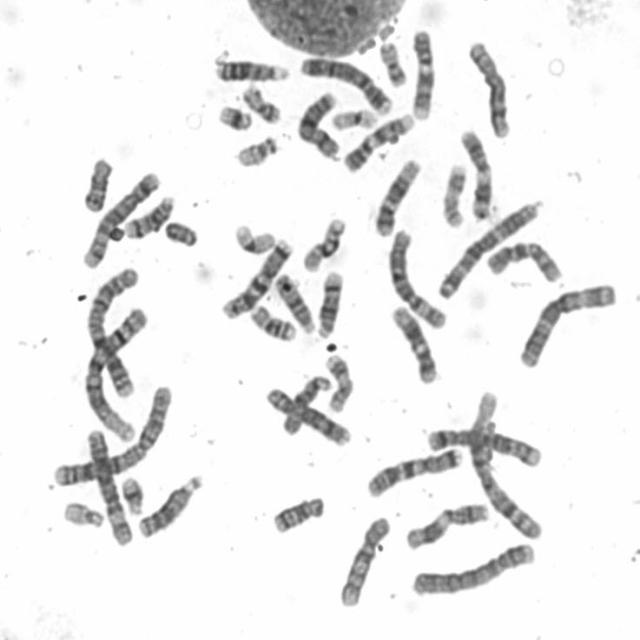A1: (463, 385, 544, 542), (78, 300, 151, 441)
A2: (48, 378, 174, 487), (80, 260, 141, 399)
A3: (432, 194, 544, 301), (512, 276, 620, 370)
B4: (406, 536, 536, 599), (294, 49, 395, 116)
B5: (76, 163, 162, 270), (420, 421, 544, 469)
C10: (333, 509, 392, 609), (481, 233, 565, 284)
C11: (399, 497, 492, 552), (454, 122, 496, 223)
C12: (386, 298, 440, 385), (369, 152, 423, 238)
C6: (383, 222, 448, 330), (80, 422, 134, 547)
C7: (216, 232, 295, 320), (360, 442, 464, 498)
C8: (260, 382, 352, 448), (462, 34, 513, 140)
C9: (339, 105, 416, 173), (405, 22, 437, 122)
D13: (132, 467, 205, 540), (208, 51, 291, 84)
D14: (118, 188, 177, 241), (312, 264, 344, 340)
D15: (267, 270, 331, 345), (277, 369, 333, 437)
E16: (296, 210, 348, 274), (244, 297, 298, 343)
E17: (319, 348, 355, 414), (437, 157, 468, 229)
E18: (266, 489, 326, 535), (77, 150, 115, 213)
F19: (228, 216, 278, 256), (326, 102, 379, 131)
F20: (236, 78, 284, 124), (373, 34, 409, 88)
G21: (212, 98, 254, 132), (115, 469, 145, 516)
G22: (230, 128, 281, 168), (57, 494, 106, 530)
X: (292, 84, 343, 161)
Y: (159, 214, 201, 248)
